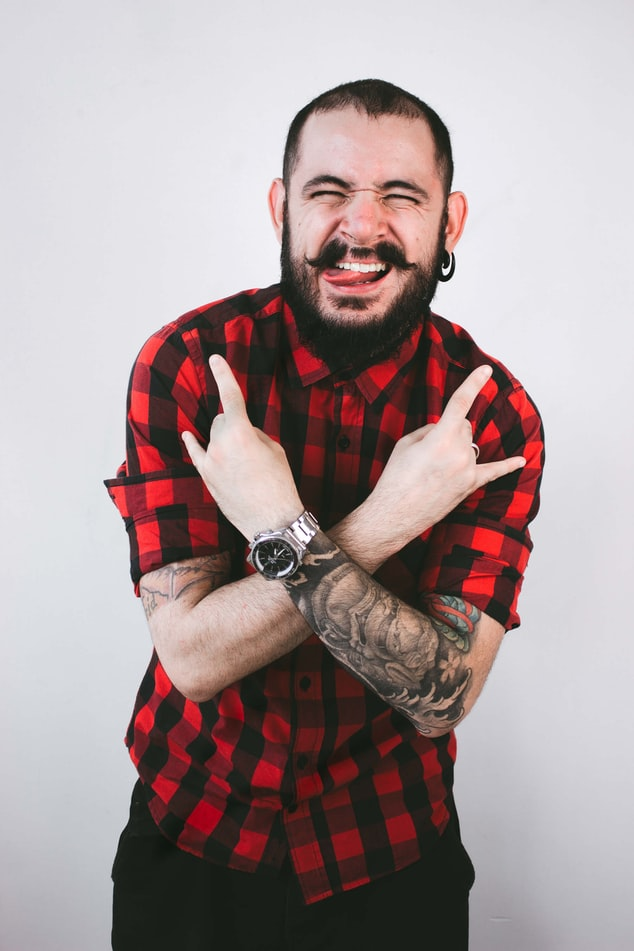beard: (274, 226, 443, 364)
squared: (104, 285, 557, 893)
